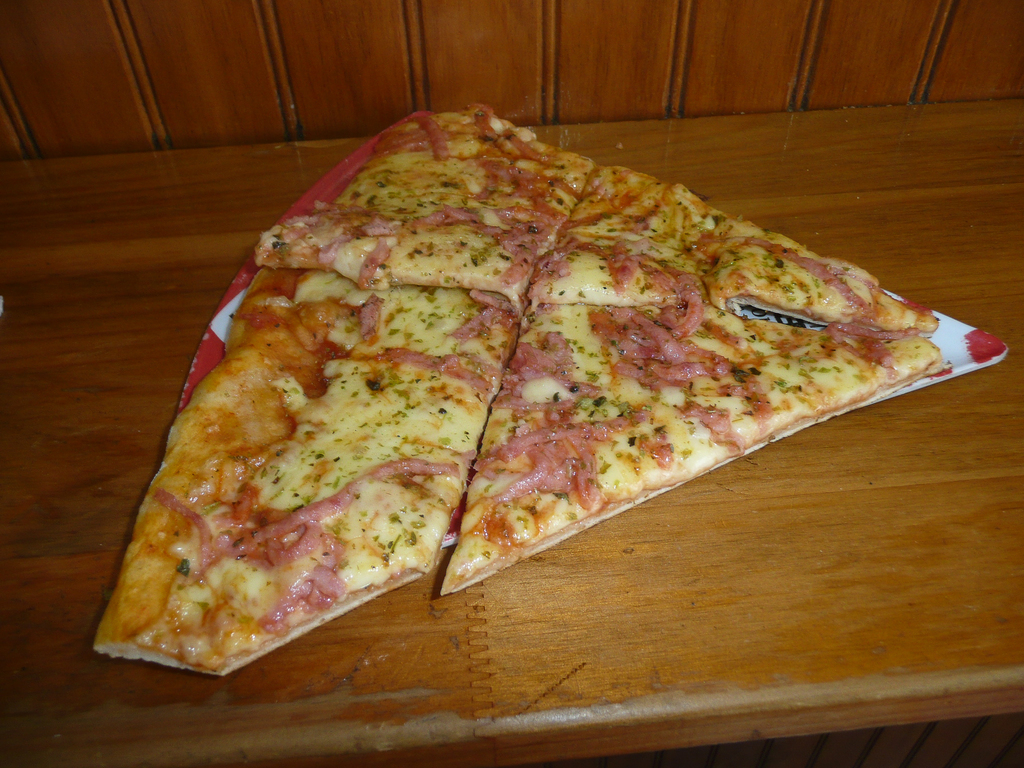Pizza: (131, 124, 963, 662)
